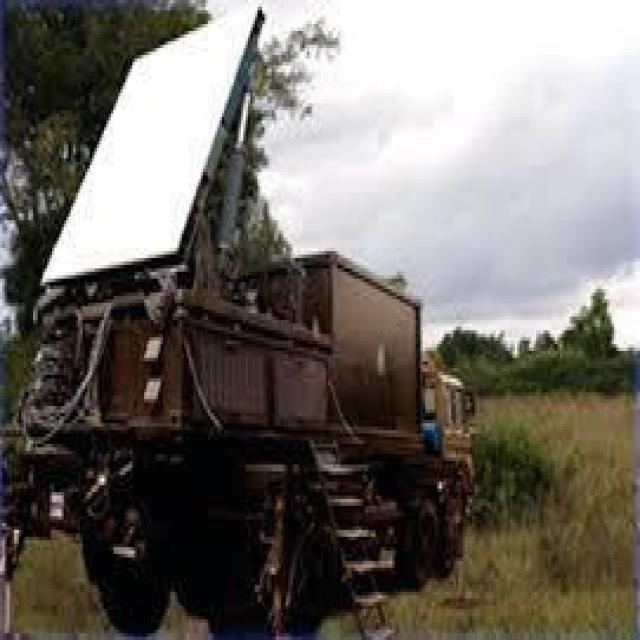Tanks: (41, 162, 469, 609)
